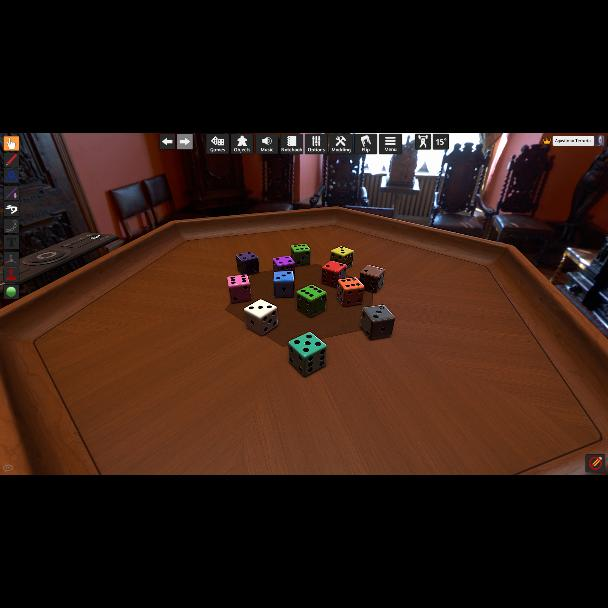d6: (290, 333, 328, 375), (244, 300, 278, 336), (360, 306, 394, 340), (294, 284, 324, 316), (338, 277, 364, 307), (321, 261, 347, 289), (359, 266, 384, 294), (228, 274, 250, 304), (330, 246, 354, 270), (273, 272, 295, 298), (236, 253, 258, 277), (290, 244, 310, 266), (273, 256, 295, 272)
